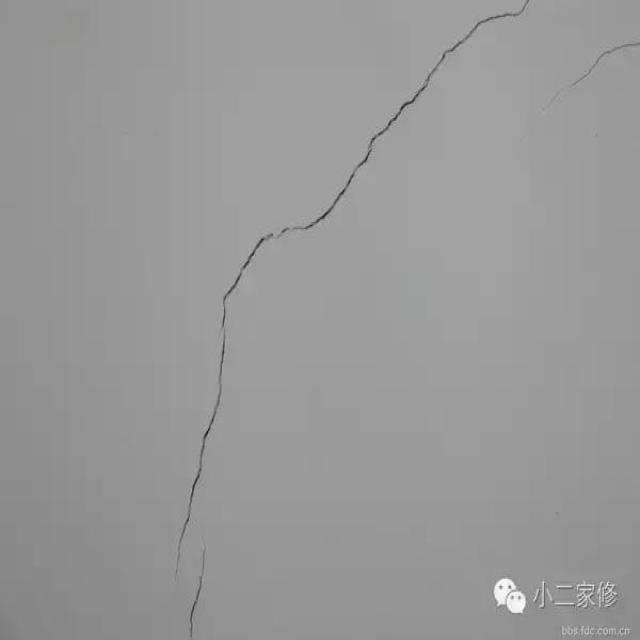Crack: (175, 0, 531, 577), (541, 40, 640, 115), (189, 549, 206, 640)
